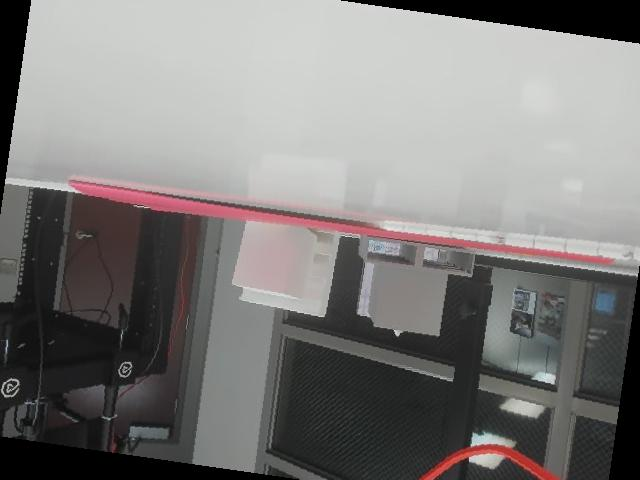grey pallet: (351, 229, 490, 343)
white pallet: (225, 212, 348, 321)
